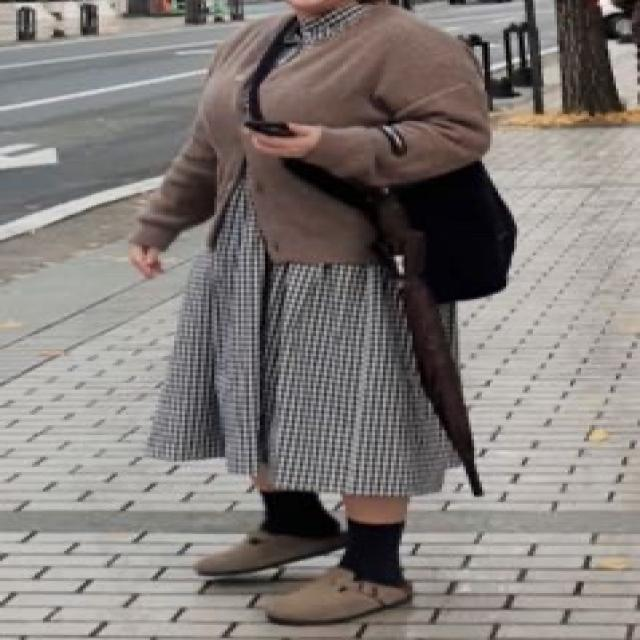cardigan: (126, 4, 492, 266)
skirt: (146, 179, 466, 496)
